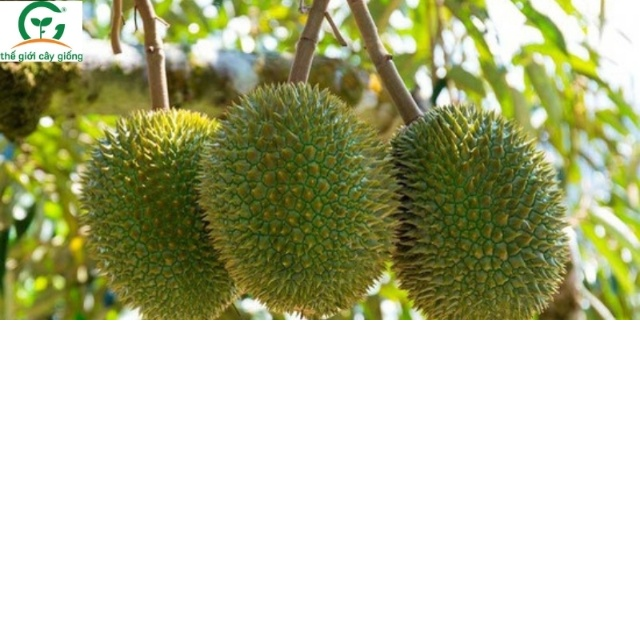sau_rieng: (196, 80, 404, 314), (394, 98, 573, 321), (77, 106, 242, 321)
